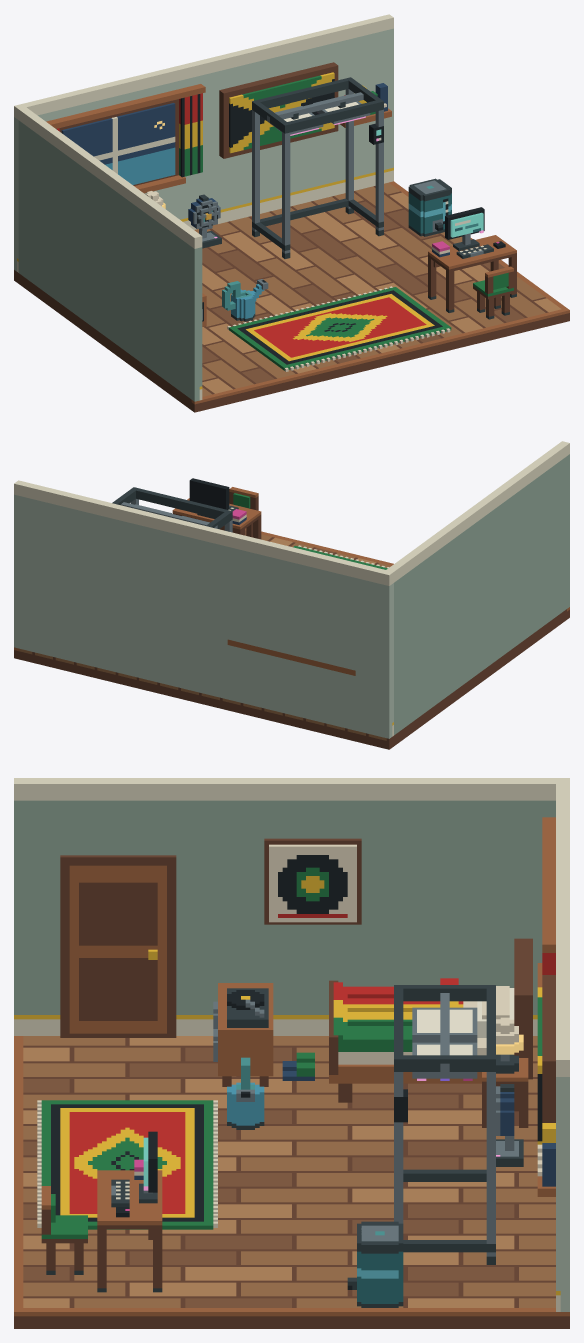
Rendered from rasta_bedroom.glb.
The picture shows the model from 3 angles, top to bottom: view 1: azimuth 30°, elevation 25°; view 2: azimuth 150°, elevation 25°; view 3: azimuth 270°, elevation 25°; orthographic projection. The views are drawn at different scales.
Parts seen in each view (by area): view 1: back_wall_window, oak_floor, left_wall_door, woven_rug, grow_light_rack, desk, water_reservoir, chair, watering_can, small_fan; view 2: back_wall_window, left_wall_door, oak_floor, grow_light_rack, desk, chair; view 3: left_wall_door, oak_floor, woven_rug, grow_light_rack, back_wall_window, teal_single_bed, desk, stereo_corner, water_reservoir, bedside_table, chair, watering_can (+2 smaller).
Part boxes in pixels (x1,y1,x2,y2): back_wall_window: (14,14,393,272); oak_floor: (14,181,569,412); left_wall_door: (18,107,202,401); woven_rug: (227,286,451,371); grow_light_rack: (252,77,383,258); desk: (428,207,516,312); water_reservoir: (408,178,451,236); chair: (473,266,513,319); watering_can: (222,279,268,321); small_fan: (188,194,221,248); back_wall_window: (14,480,393,738); left_wall_door: (386,441,569,735); oak_floor: (14,528,569,749); grow_light_rack: (112,487,232,532); desk: (172,478,261,539); chair: (229,487,258,537); left_wall_door: (14,778,555,1037); oak_floor: (14,1036,569,1328); woven_rug: (37,1100,217,1229); grow_light_rack: (394,985,495,1264); back_wall_window: (537,778,569,1311); teal_single_bed: (329,938,532,1102); desk: (97,1131,162,1292); stereo_corner: (213,983,273,1086); water_reservoir: (347,1221,403,1307); bedside_table: (482,1017,528,1127); chair: (41,1186,87,1274); watering_can: (227,1057,264,1129).
Bounding box in the file's own units: 7.2 × 3.2 × 6.
Materials: 2 (2 with a texture image).
